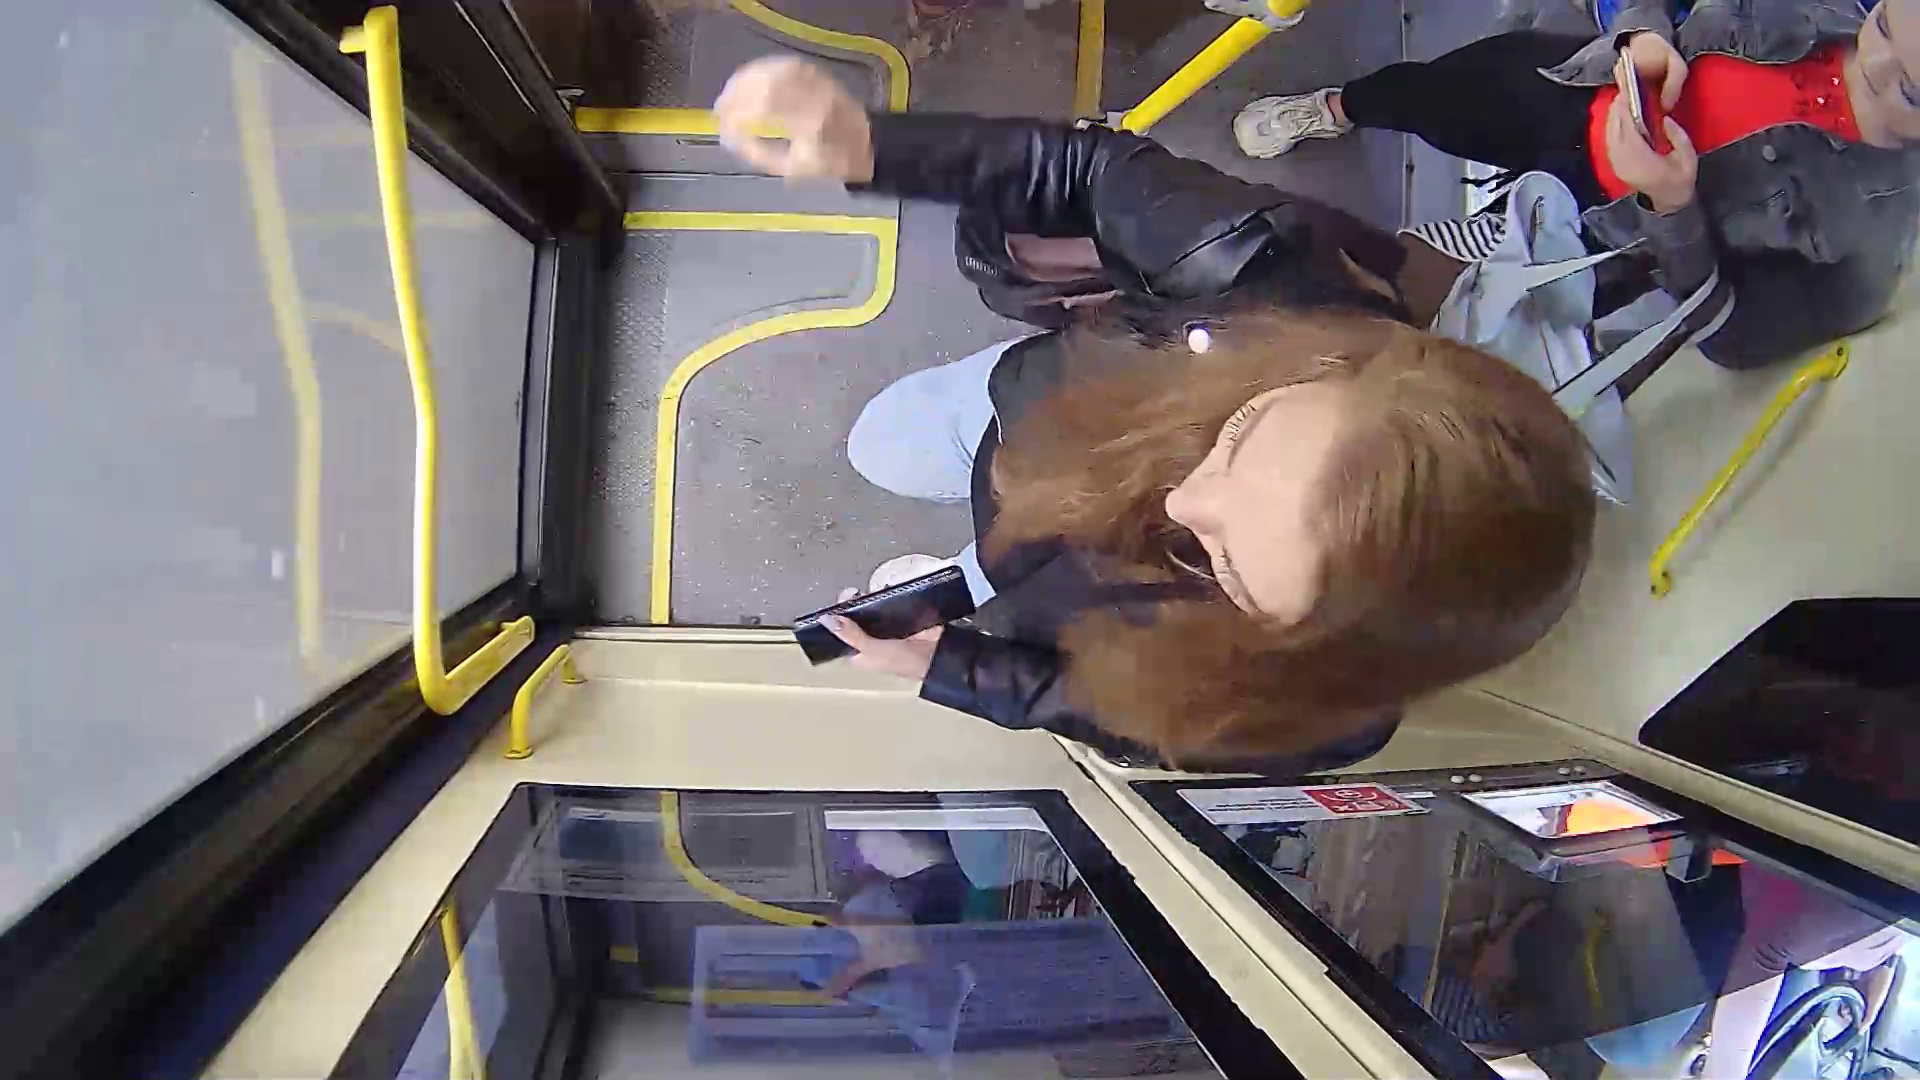person: (678, 51, 1641, 815)
